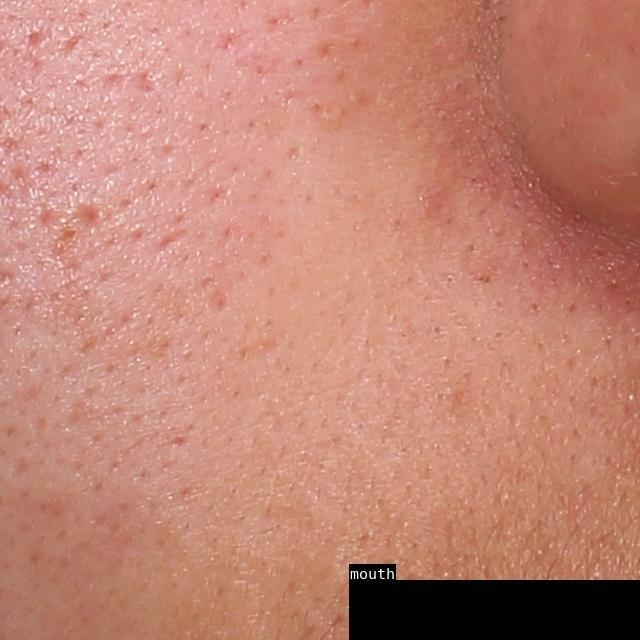atrophic_scar: (67, 199, 106, 234), (136, 69, 159, 101)
